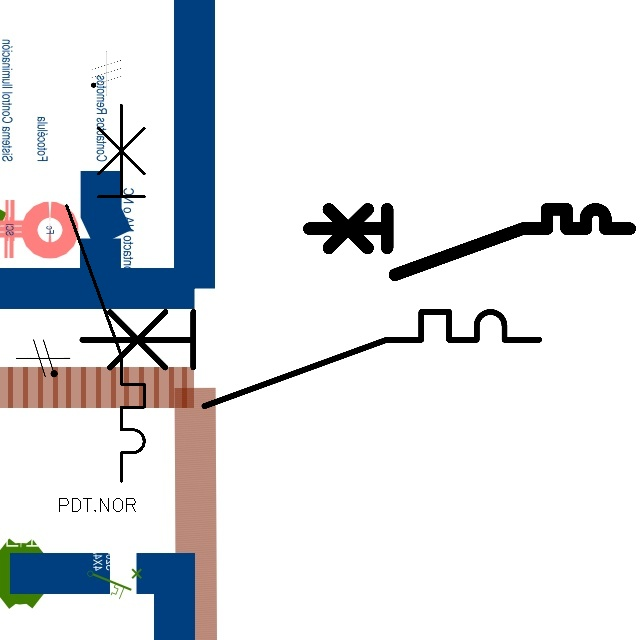interruptor_termomagnetico: (70, 300, 551, 417), (57, 95, 154, 490), (301, 201, 638, 283)
